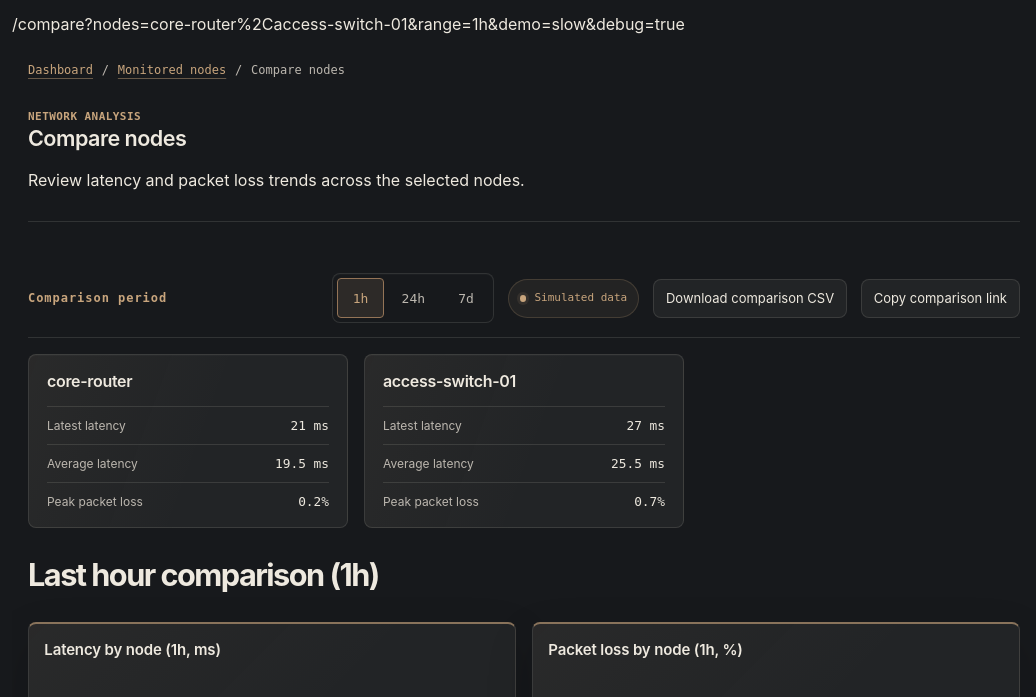
it: NetworkNodeComparisonPage › copies a clean comparison URL and announces success
What coordinates should you click on to do the following:
click the button "Copy comparison link"
I would click on:
 (940, 298)
Its box is 861,279 -> 1020,318.
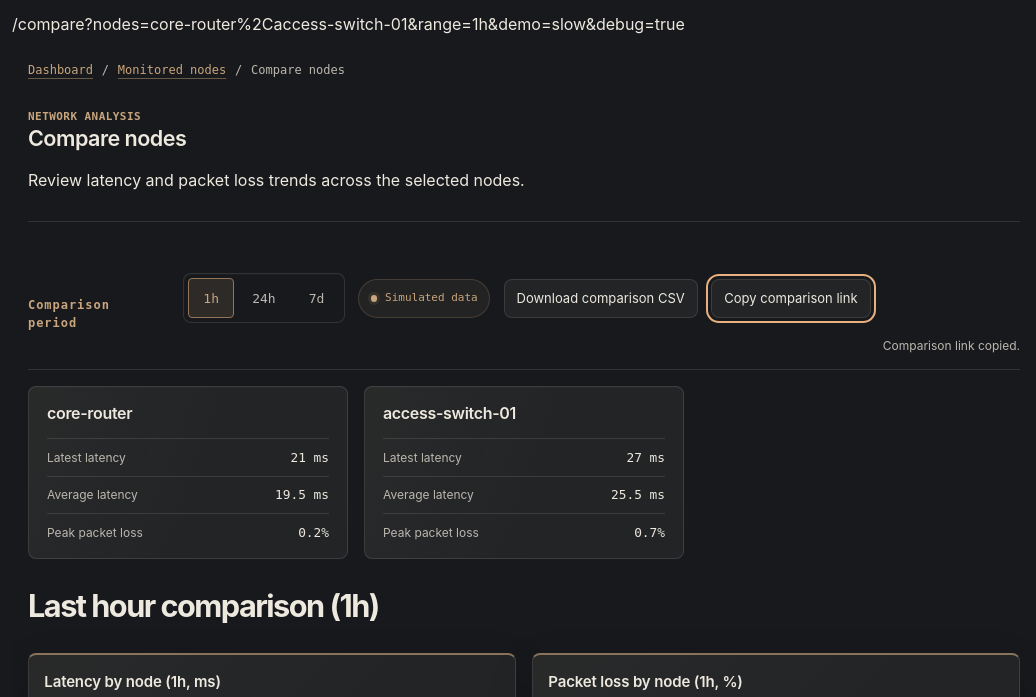
Check: the message reads "Comparison link copied.", box 883,338 -> 1020,353
